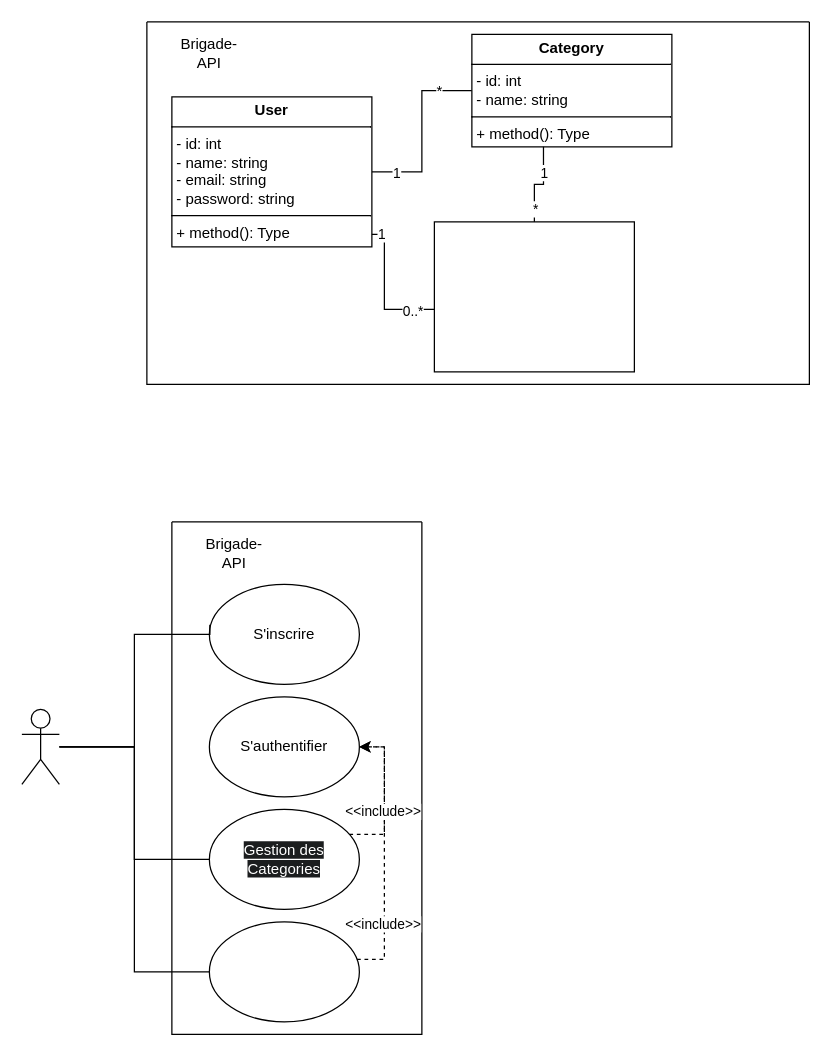
Some shapes in this 831 by 1056 pixel diagram are drawn without their labels. The shapes that lost their labels are listed below. From the top down, each one's box as (x1, y1, x2, y2) in pixels, then its label:
(433, 221, 634, 372): Plat - id: int - name: string - price: decimal + method(): Type
(21, 708, 59, 784): User
(208, 921, 359, 1022): Gestion des plats
